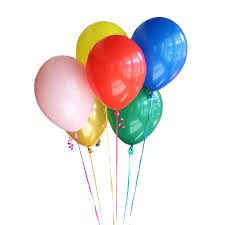Balloon: (35, 56, 95, 132), (88, 35, 146, 109), (131, 17, 189, 91)
